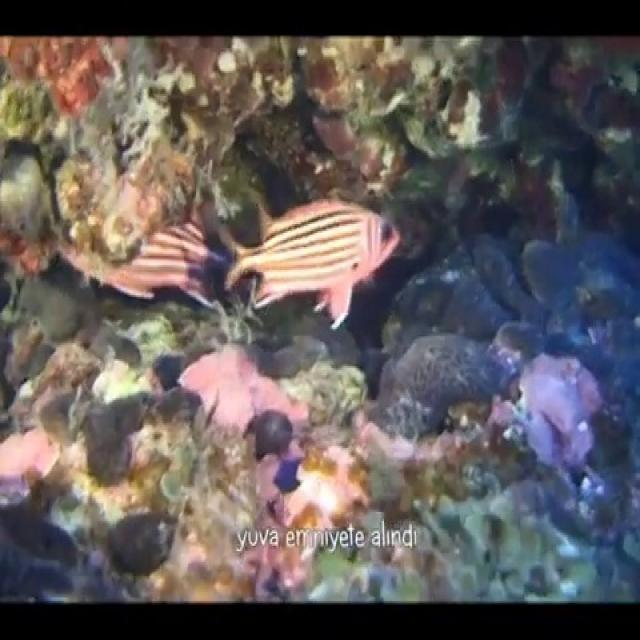Asker Baligi: (220, 194, 401, 330)
